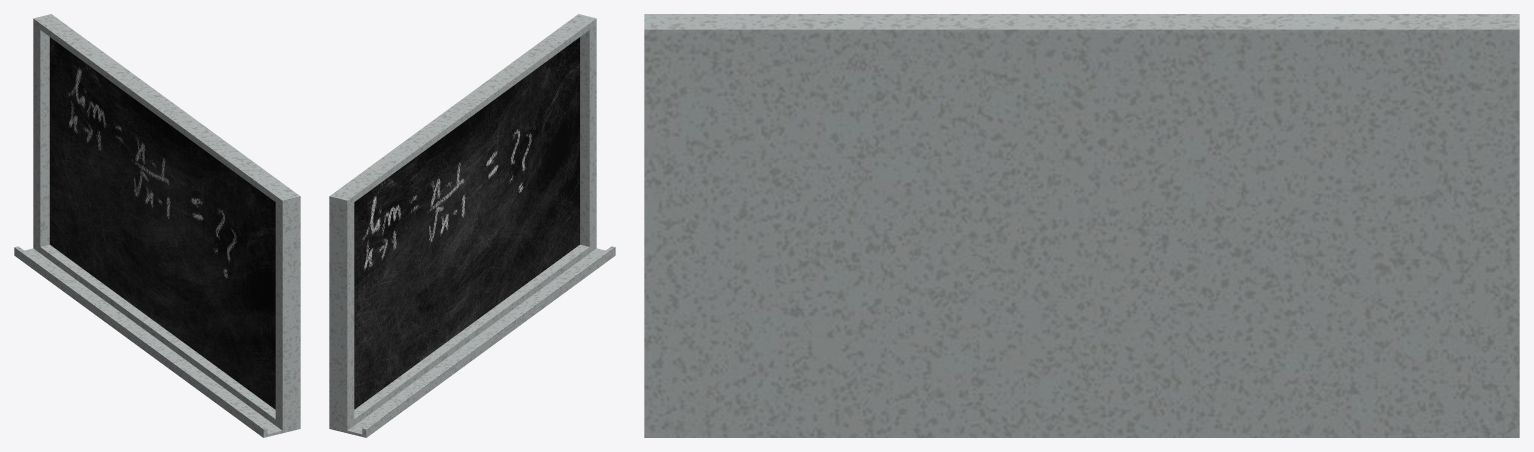
File: board (1).glb
The picture shows the model from 3 angles, left to right: view 1: azimuth 30°, elevation 25°; view 2: azimuth 150°, elevation 25°; view 3: azimuth 270°, elevation 25°; orthographic projection. The views are drawn at different scales.
Visible parts, largest first — view 1: Cube; view 2: Cube; view 3: Cube.
Boxes of the visible parts, x1,y1,x2,y2 form: Cube: (14,14,300,437); Cube: (329,14,615,437); Cube: (644,14,1519,437).
Size of the model in its own units: 0.4034 by 2.41 by 4.68.
Materials: 1 (1 with a texture image).
